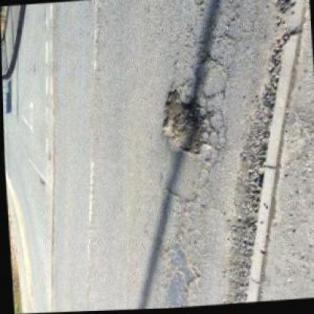Hueco: (157, 84, 214, 161)
